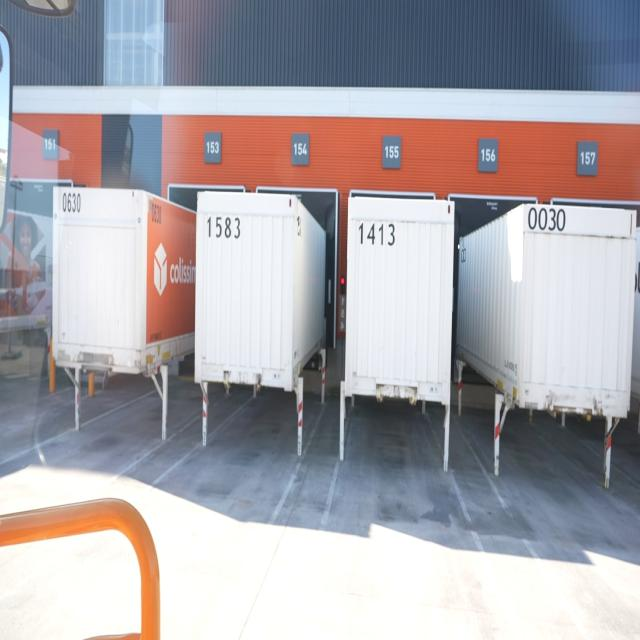Code: (356, 215, 399, 251), (526, 202, 569, 235), (204, 210, 243, 242), (59, 186, 83, 217)
